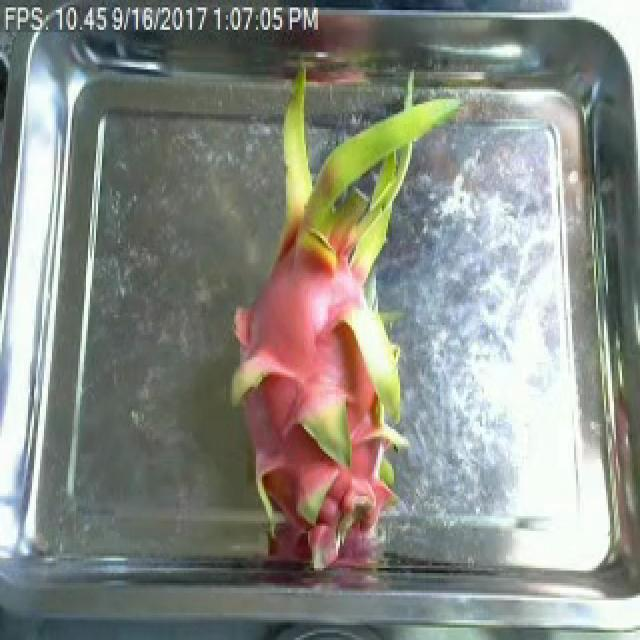fruit: (212, 174, 456, 586)
